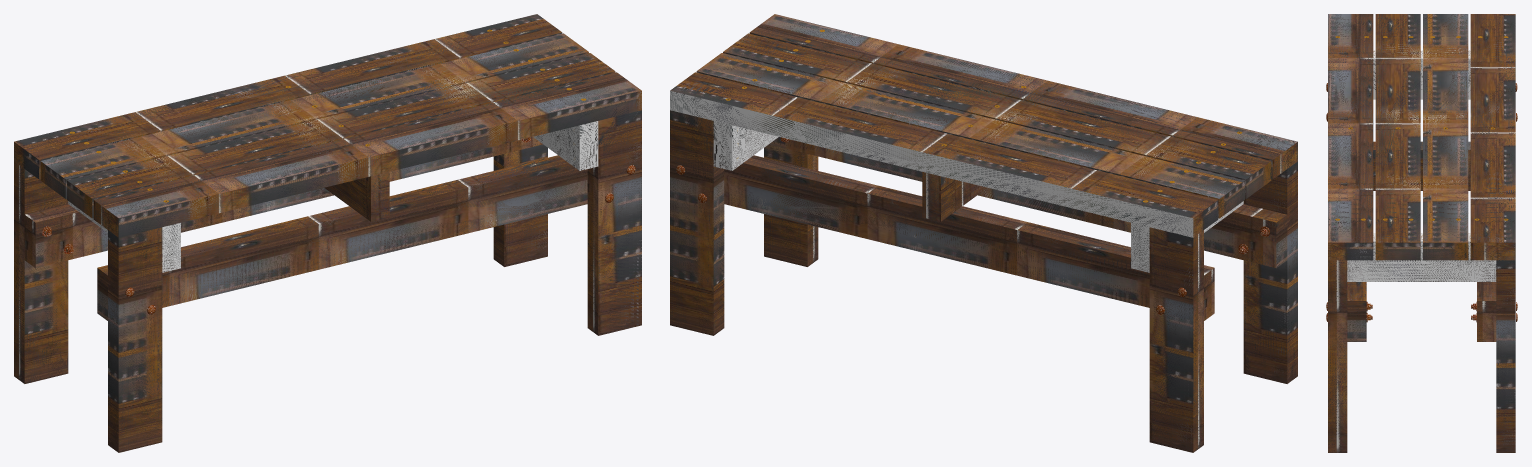
3 renders of one model, left to right at view 1: azimuth 30°, elevation 25°; view 2: azimuth 150°, elevation 25°; view 3: azimuth 270°, elevation 25°, orthographic. The views are drawn at different scales.
Visible parts, largest first — view 1: mesh2_mesh2-geometry; view 2: mesh2_mesh2-geometry; view 3: mesh2_mesh2-geometry.
Part boxes in pixels (x1,y1,x2,y2): mesh2_mesh2-geometry: (14,14,641,452); mesh2_mesh2-geometry: (670,14,1297,452); mesh2_mesh2-geometry: (1326,14,1515,452).
Bounding box in the file's own units: 0.874 × 0.3746 × 0.3094.
